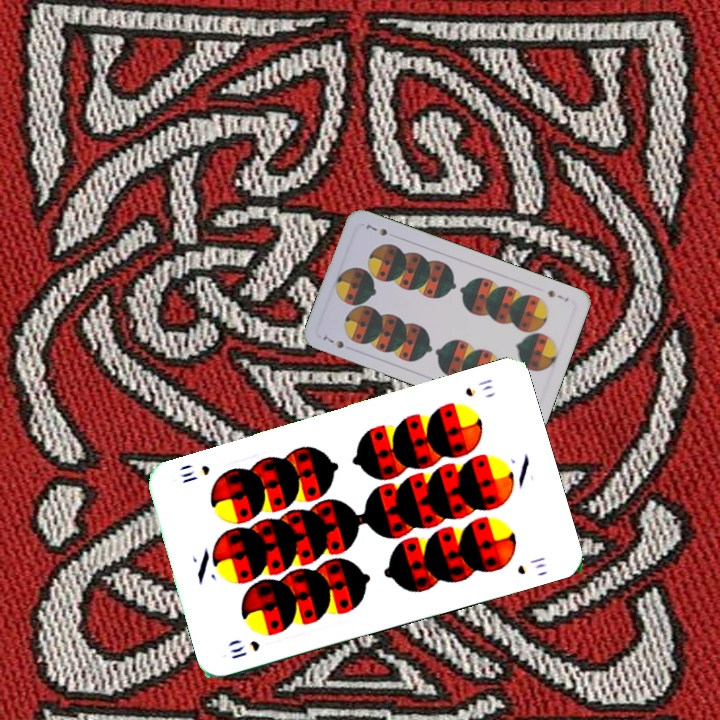S10: (226, 636, 263, 662), (461, 374, 496, 400)
S7: (319, 329, 346, 351), (544, 286, 571, 304)
